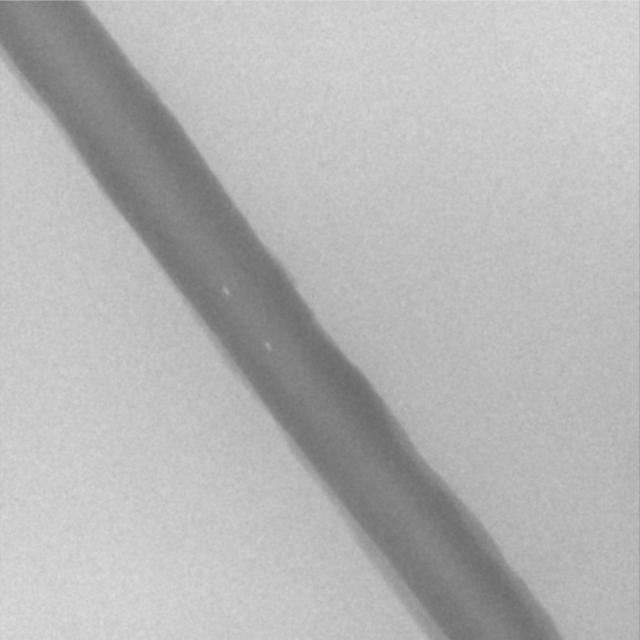air hole: (221, 286, 231, 298), (264, 341, 273, 353)
